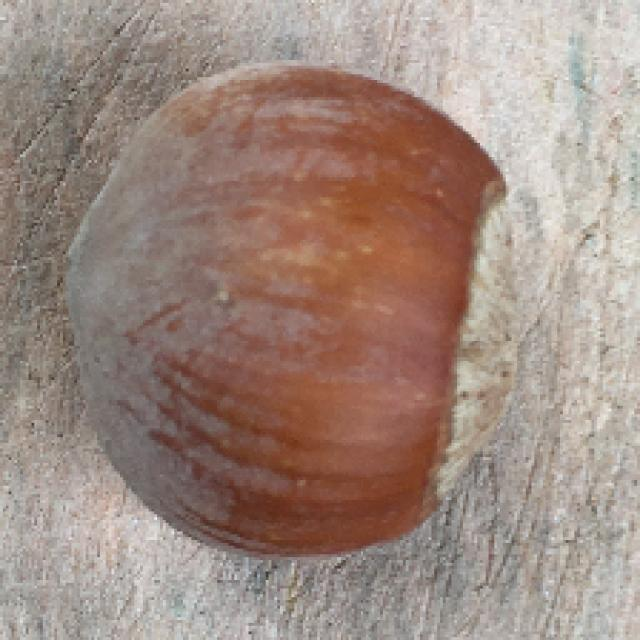qualityHazelnut: (61, 55, 523, 567)
